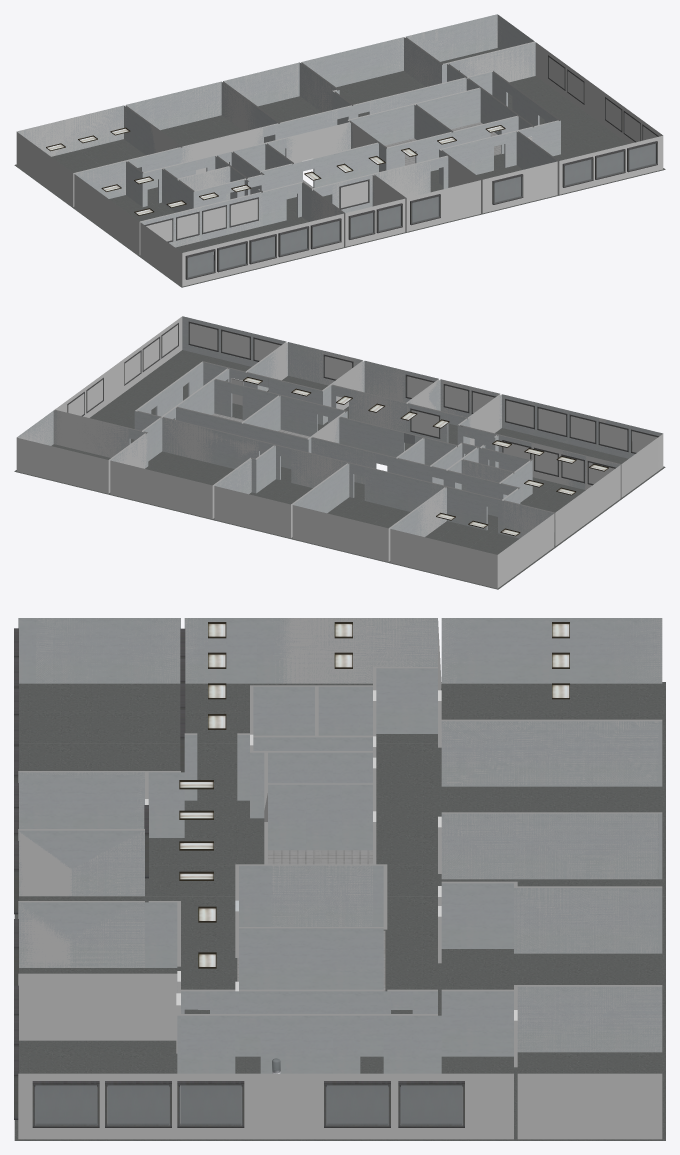
The model's file is OFFUCE.glb.
The picture shows the model from 3 angles, top to bottom: view 1: azimuth 30°, elevation 25°; view 2: azimuth 150°, elevation 25°; view 3: azimuth 270°, elevation 25°; orthographic projection. The views are drawn at different scales.
Parts seen in each view (by area): view 1: walls, walls-col, Plane-col, windows, Cube; view 2: walls-col, walls, Plane-col, windows, Cube; view 3: walls, walls-col, Plane-col, windows, Cube.
Part boxes in pixels (x1,y1,x2,y2): walls: (17, 14, 560, 261); walls-col: (16, 15, 663, 286); Plane-col: (14, 48, 665, 287); windows: (144, 55, 658, 279); Cube: (46, 125, 505, 215); walls-col: (16, 316, 663, 588); walls: (17, 316, 662, 538); Plane-col: (14, 350, 665, 589); windows: (67, 321, 658, 485); Cube: (243, 377, 608, 536); walls: (18, 618, 662, 1073); walls-col: (18, 618, 662, 1139); Plane-col: (14, 682, 665, 1140); windows: (14, 628, 464, 1127); Cube: (179, 622, 569, 968).
Size of what is drawn, in the model's own units: 60.03 by 4.18 by 36.03.
Materials: 6 (5 with a texture image).
